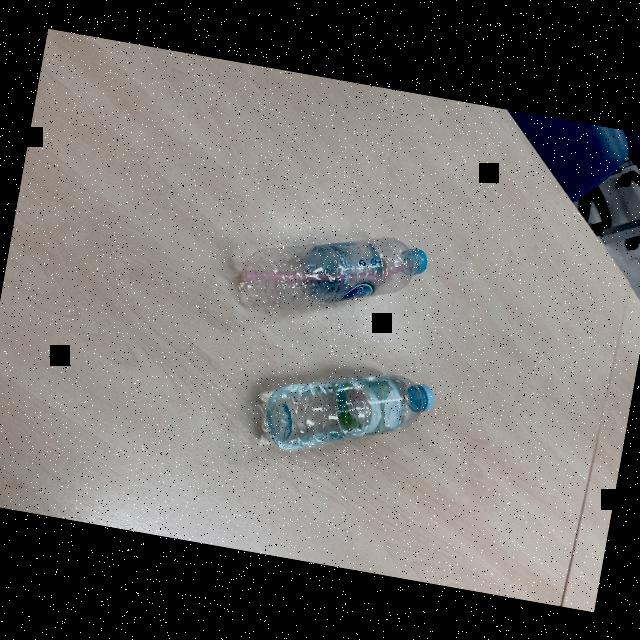plastic_bottle: (236, 214, 428, 334), (258, 355, 438, 476)
